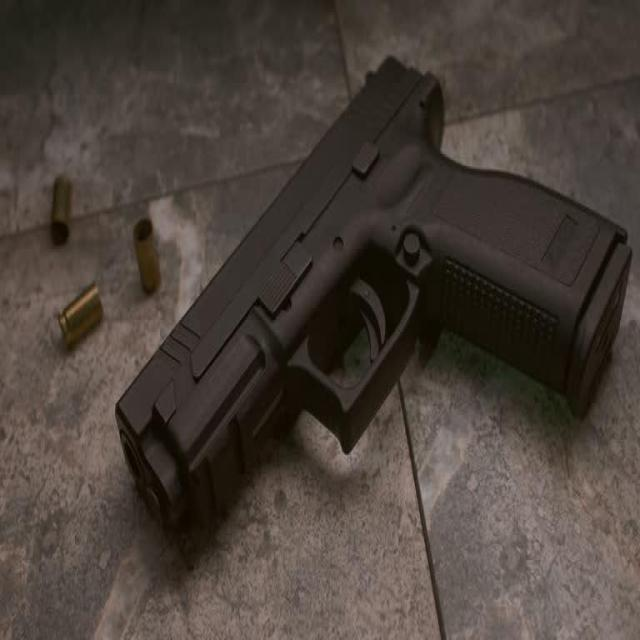gun: (113, 58, 633, 544)
